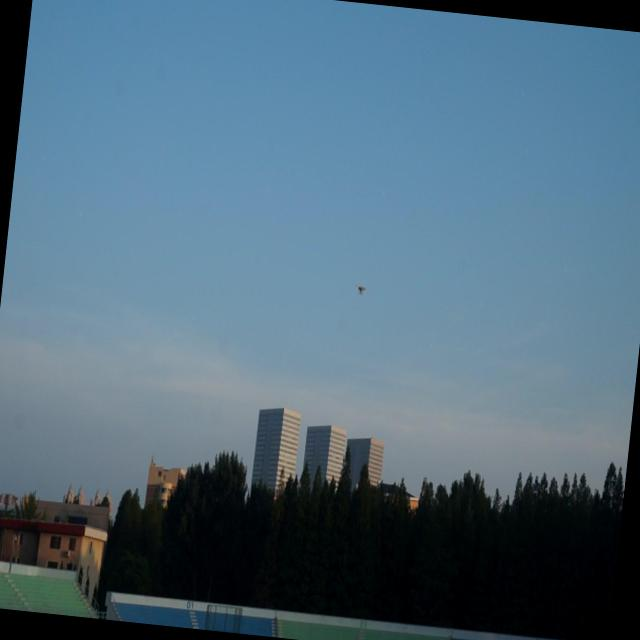drone: (354, 278, 368, 300)
